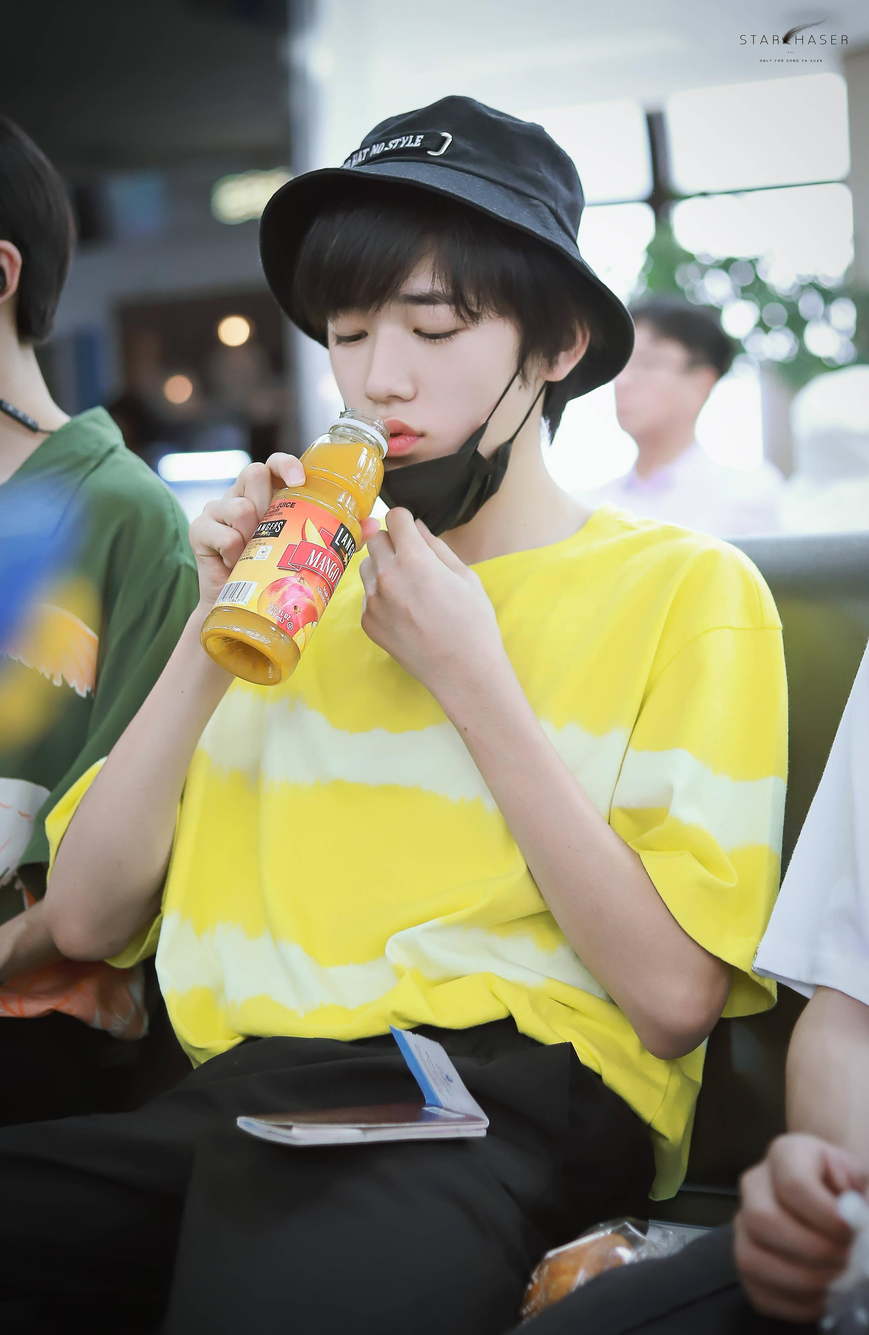WRONG: (326, 262, 533, 538)
